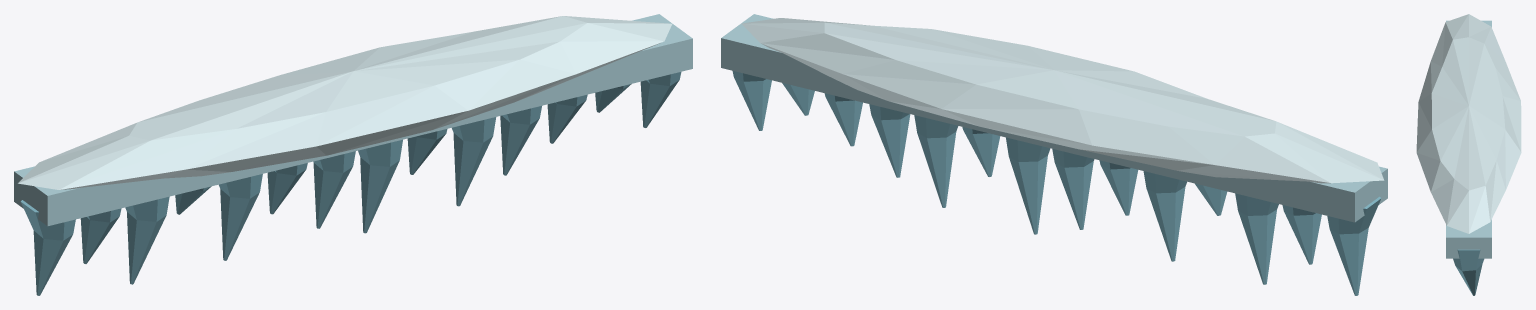
Rendered from FROST_04_HangingFrostStrip.glb.
The picture shows the model from 3 angles, left to right: view 1: azimuth 30°, elevation 25°; view 2: azimuth 150°, elevation 25°; view 3: azimuth 270°, elevation 25°; orthographic projection. The views are drawn at different scales.
Visible parts, largest first — view 1: FROST_04_HangingFrostStrip; view 2: FROST_04_HangingFrostStrip; view 3: FROST_04_HangingFrostStrip.
Part boxes in pixels (<box>): FROST_04_HangingFrostStrip: <box>14,14,692,295</box>; FROST_04_HangingFrostStrip: <box>721,14,1387,295</box>; FROST_04_HangingFrostStrip: <box>1416,14,1521,295</box>.
Bounding box in the file's own units: 2.05 × 0.498 × 0.4093.
